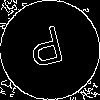P: (25, 25, 69, 77)
